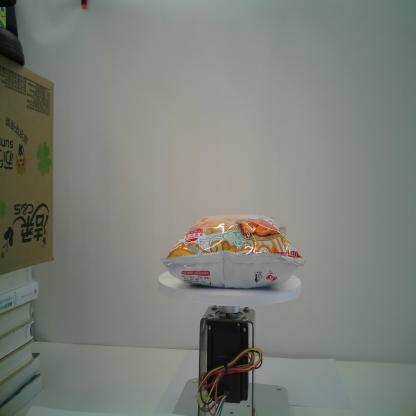Puffed Food: (158, 212, 307, 289)
